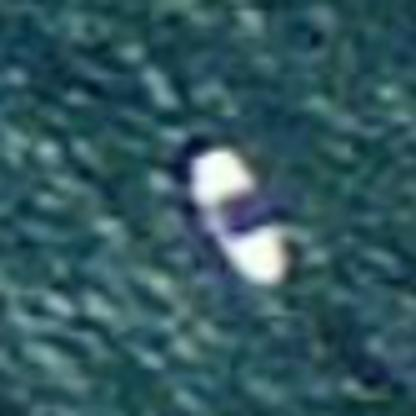ship: (171, 133, 304, 294)
